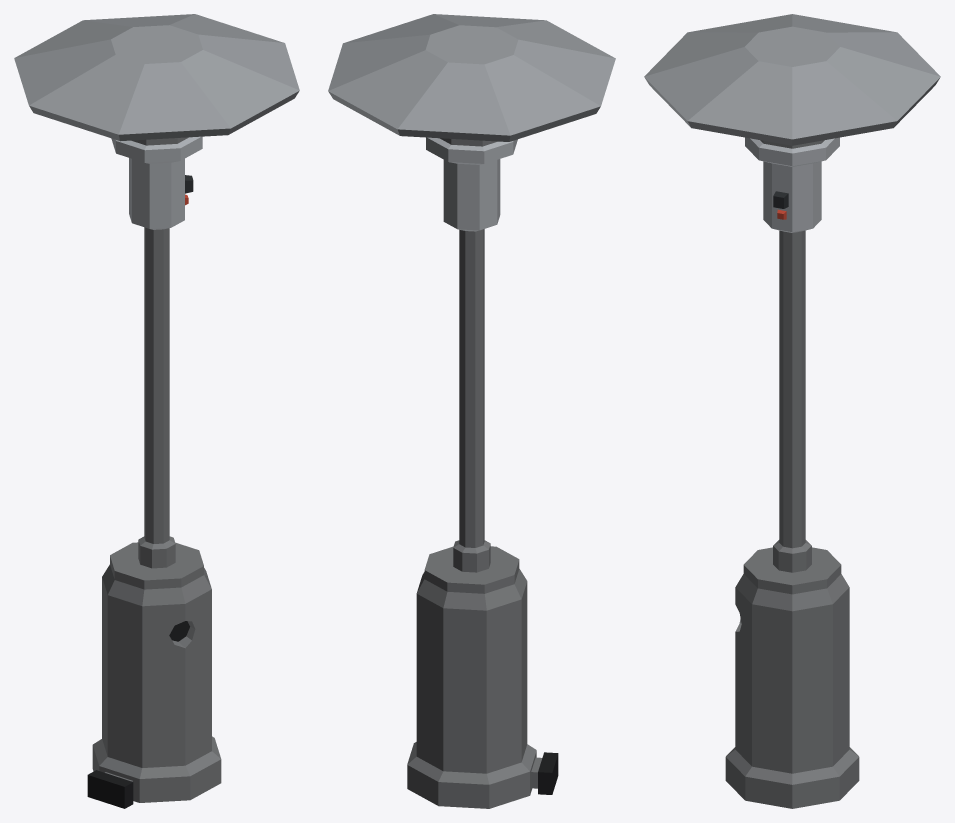
File: SM_Prop_Outdoor_Heater_01.obj
3 renders of one model, left to right at view 1: azimuth 30°, elevation 25°; view 2: azimuth 150°, elevation 25°; view 3: azimuth 270°, elevation 25°, orthographic.
Visible parts, largest first — view 1: SM_Prop_Outdoor_Heater_01_0; view 2: SM_Prop_Outdoor_Heater_01_0; view 3: SM_Prop_Outdoor_Heater_01_0.
Part boxes in pixels (x1,y1,x2,y2): SM_Prop_Outdoor_Heater_01_0: [14, 14, 299, 808]; SM_Prop_Outdoor_Heater_01_0: [328, 14, 615, 808]; SM_Prop_Outdoor_Heater_01_0: [644, 14, 940, 808].
Bounding box in the file's own units: 0.751 × 2.05 × 0.751.
1 material, 1 textured.
